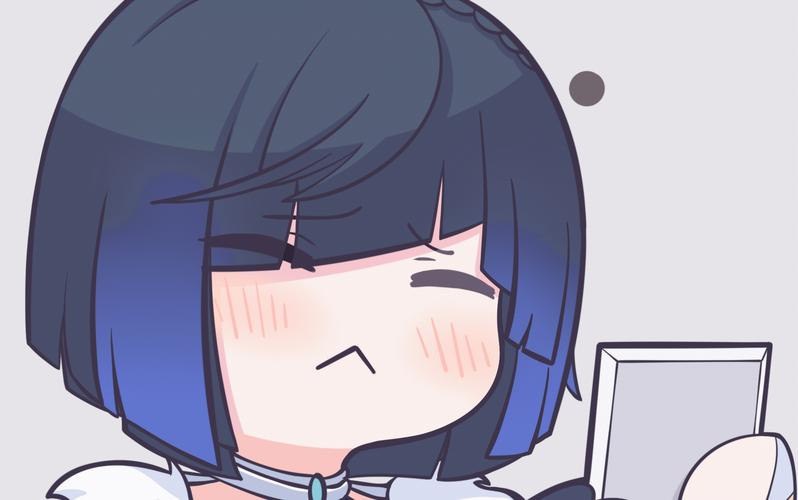夜兰: (22, 3, 793, 499)
